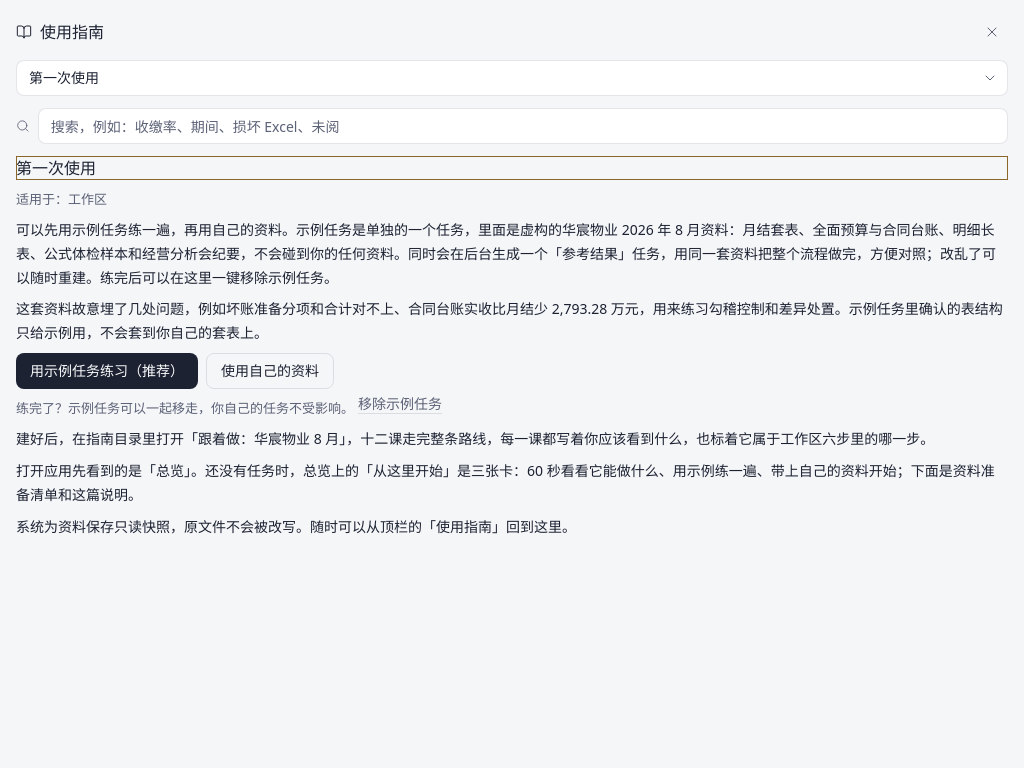
removes the example tasks only after the count is confirmed
The width and height of the screenshot is (1024, 768).
Click the button "移除示例任务": (400, 404) [358,397,442,411]
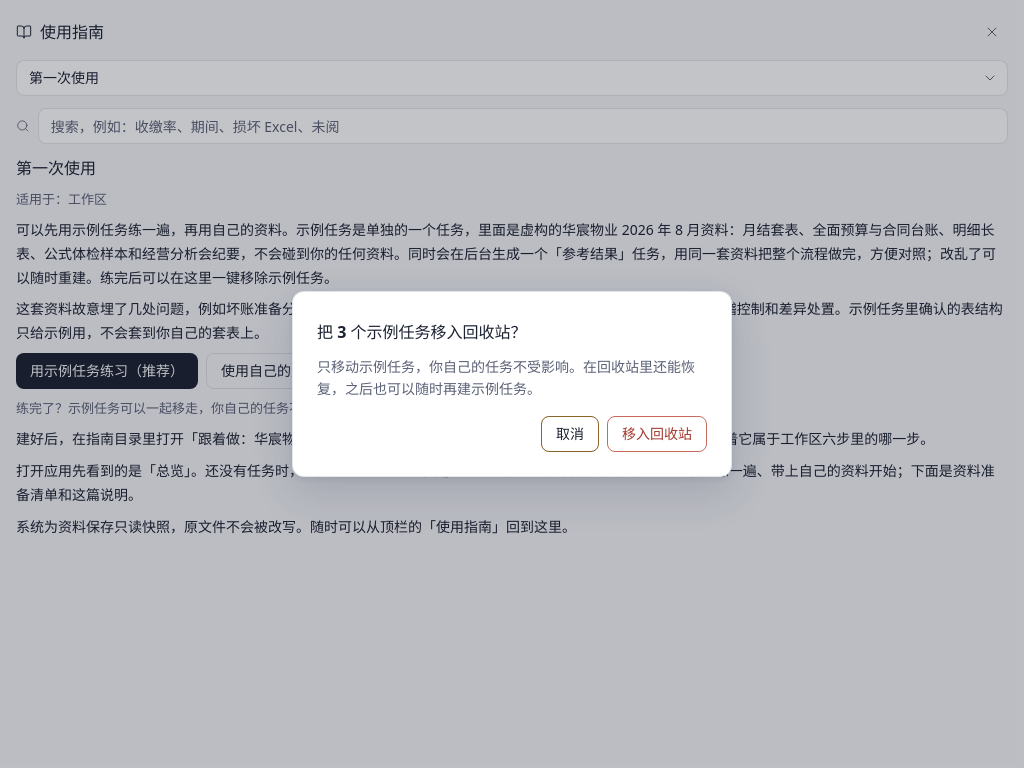
Check: the dialog shows "3 个示例任务", box [317,321,526,343]
Click the button "移入回收站": (657, 434) [607,416,707,452]
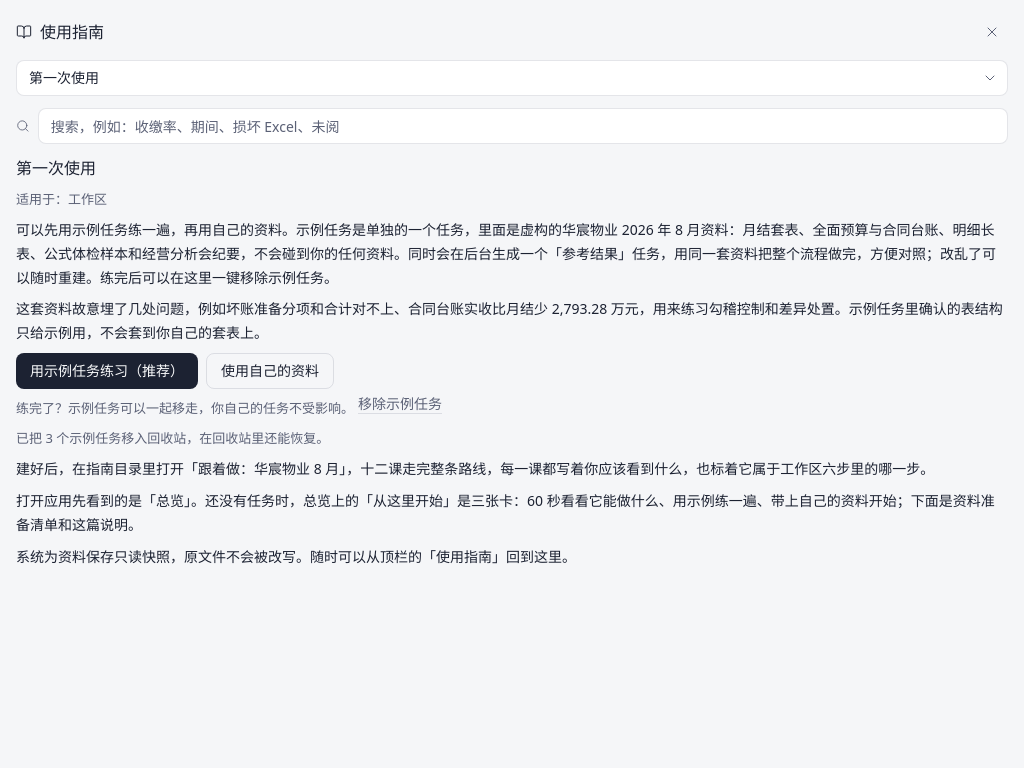
Check: the text "已把 3 个示例任务移入回收站，在回收站里还能恢复。" is shown, box [16,427,329,449]
